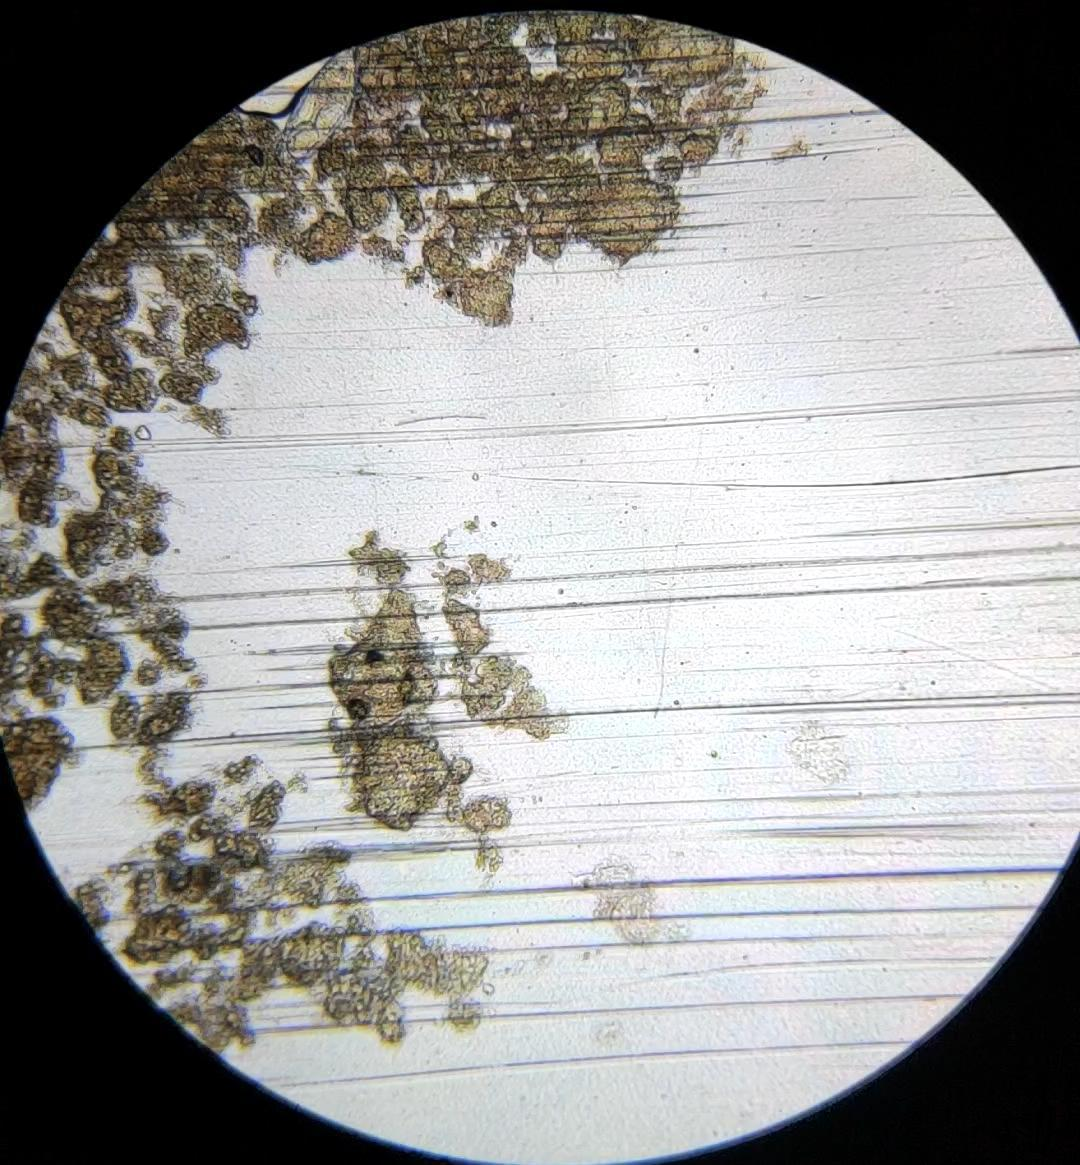Do: (274, 45, 356, 170)
